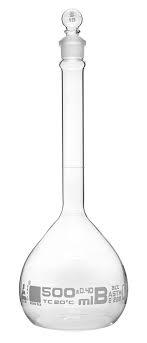Volumetric flask: (25, 16, 131, 326)
